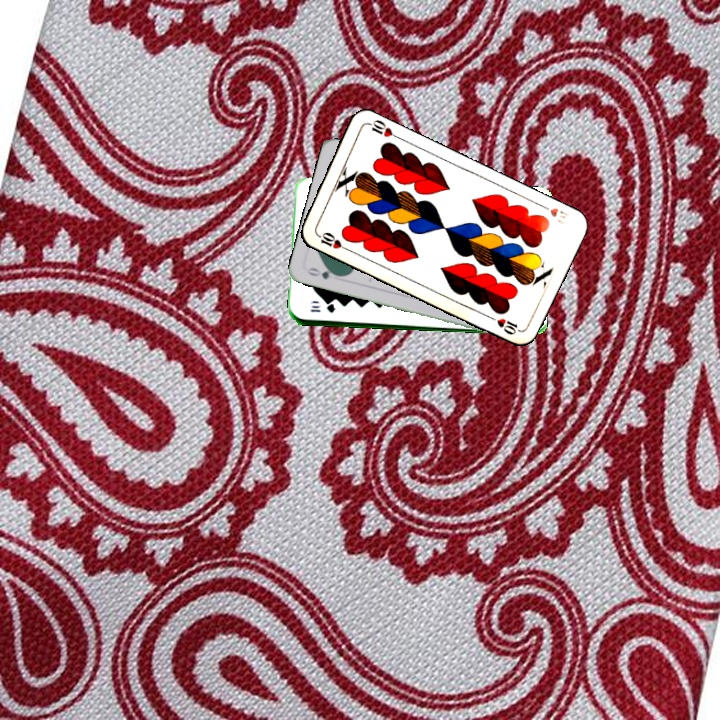G10: (307, 301, 337, 315)
GO: (304, 263, 344, 282)
H10: (312, 228, 350, 253), (536, 200, 572, 221)
